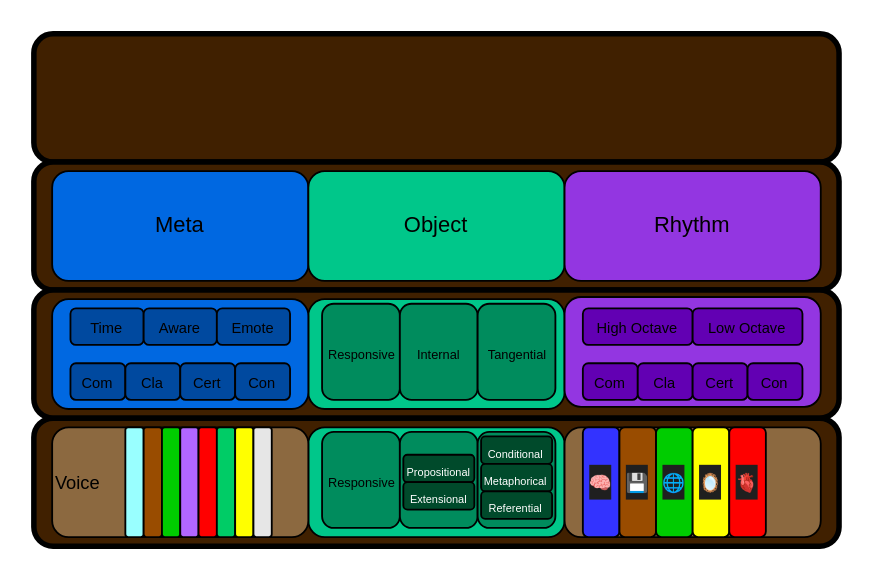
The diagram is 873 pixels wide and 580 high, and some of its shapes have lost their labels. The shapes that lost their labels are listed below. From the top down, each one's box as (x1, y1, x2, y2) in pixels, then its label:
(30, 30, 841, 164): LANGUAGE
(563, 425, 821, 537): Word
